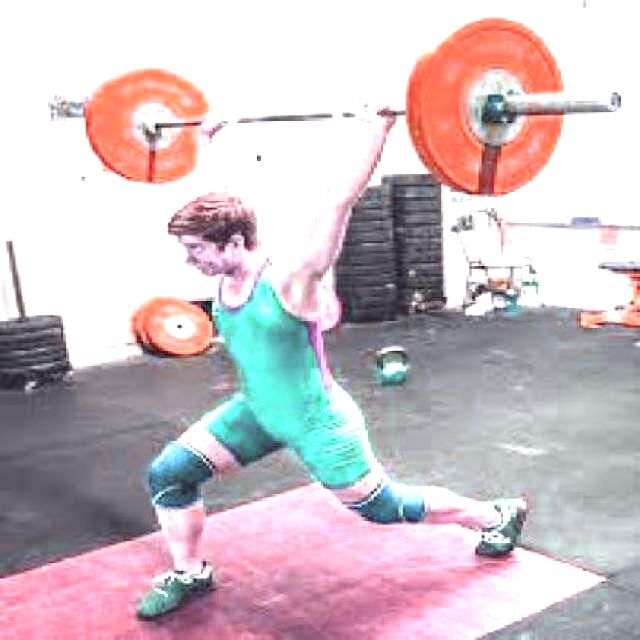barbell: (387, 8, 587, 206)
